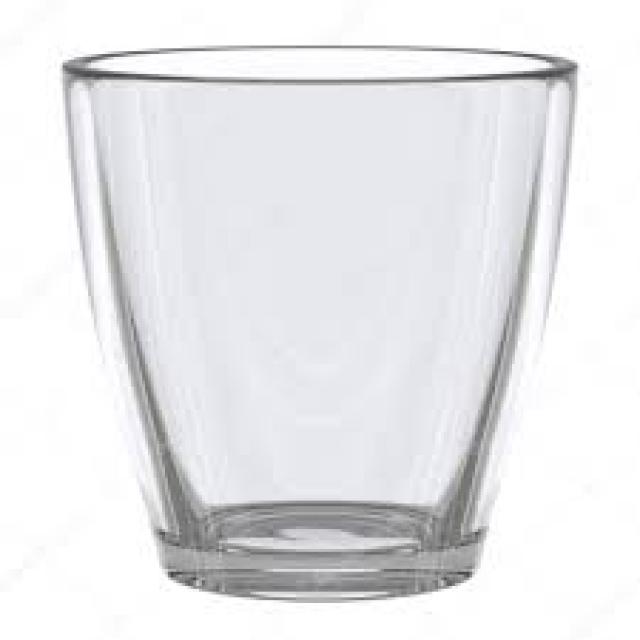glass: (63, 46, 575, 597)
